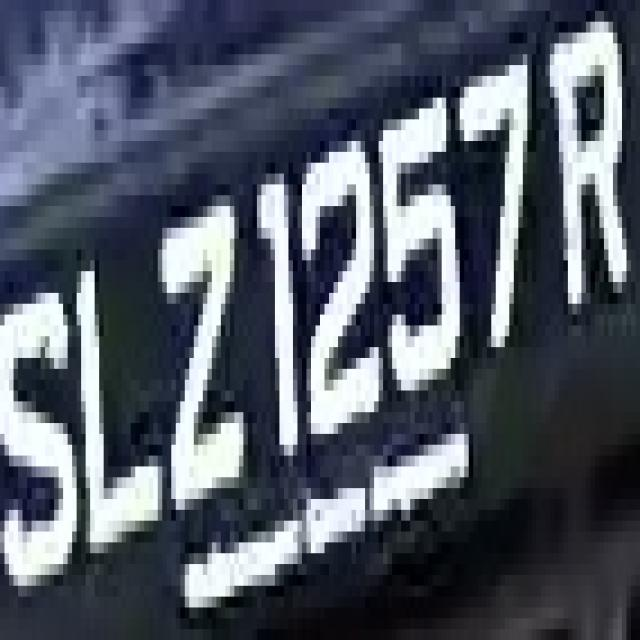1: (252, 108, 306, 510)
2: (284, 108, 383, 456)
5: (365, 98, 473, 444)
7: (446, 65, 541, 369)
L: (63, 271, 176, 564)
R: (532, 11, 626, 314)
S: (9, 260, 81, 608)
Z: (149, 163, 252, 542)
